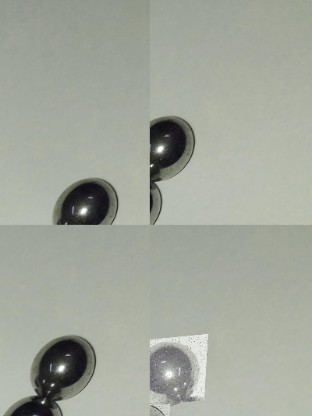ironball: (31, 333, 102, 399), (149, 337, 211, 409), (146, 113, 205, 183), (55, 176, 125, 226), (0, 393, 62, 416), (149, 181, 160, 226)
